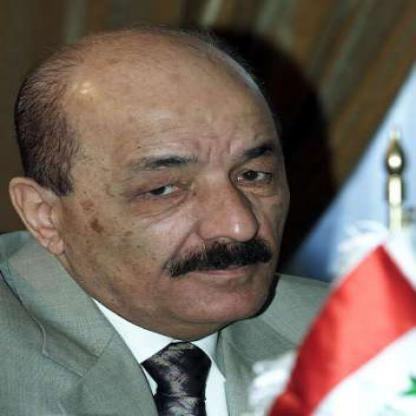face: (51, 38, 306, 337)
